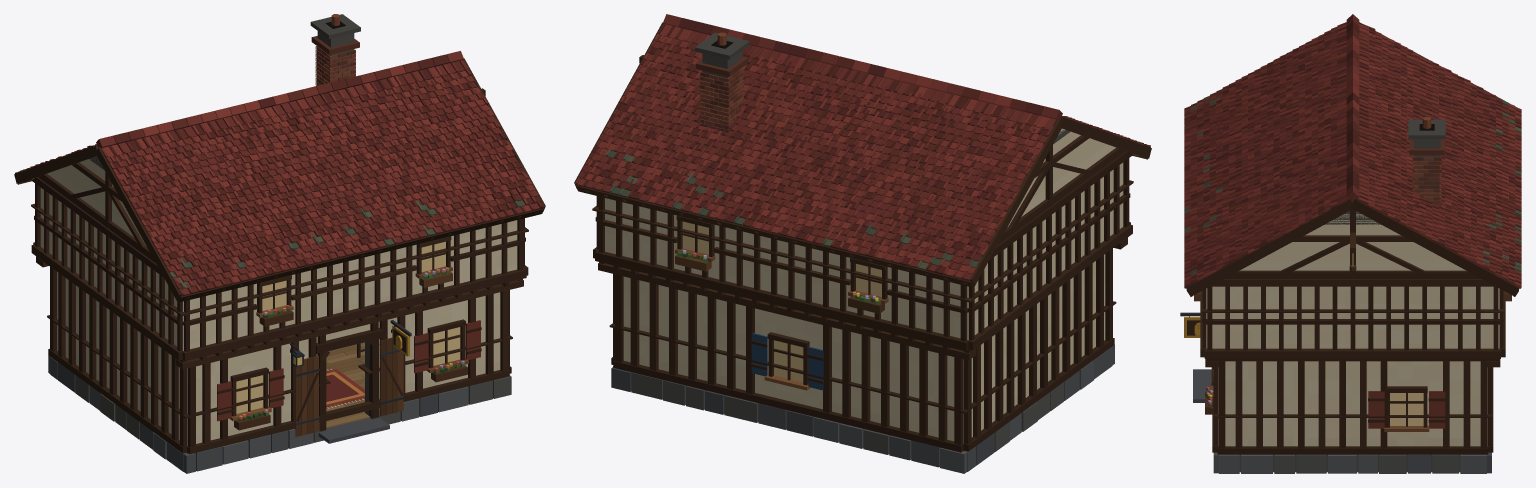
The model's file is store.glb.
The picture shows the model from 3 angles, left to right: view 1: azimuth 30°, elevation 25°; view 2: azimuth 150°, elevation 25°; view 3: azimuth 270°, elevation 25°; orthographic projection. The views are drawn at different scales.
Visible parts, largest first — view 1: store_shell, store_interior, store_glass, store_cap1, store_cap; view 2: store_shell, store_cap1, store_cap, store_glass; view 3: store_shell, store_cap1, store_cap, store_glass.
Part boxes in pixels (x1,y1,x2,y2): store_shell: (14, 14, 545, 473); store_interior: (326, 342, 369, 428); store_glass: (236, 241, 460, 413); store_cap1: (31, 203, 528, 316); store_cap: (47, 315, 512, 418); store_shell: (574, 14, 1151, 473); store_cap1: (592, 180, 1133, 302); store_cap: (609, 301, 1116, 413); store_glass: (682, 221, 881, 382); store_shell: (1180, 14, 1521, 473); store_cap1: (1201, 290, 1504, 312); store_cap: (1213, 367, 1492, 417); store_glass: (1390, 393, 1423, 425).
Bounding box in the file's own units: 13.37 × 10.52 × 10.13.
